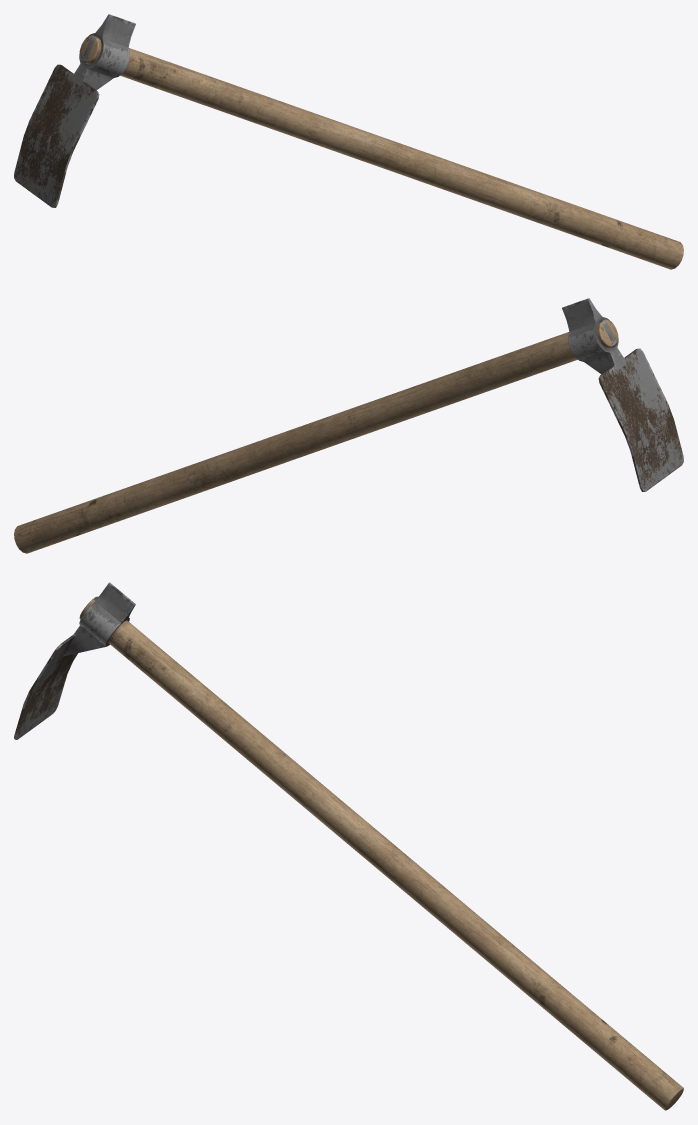
Rendered from farming_hoe.glb.
3 views of the same model, one above another, from view 1: azimuth 30°, elevation 25°; view 2: azimuth 150°, elevation 25°; view 3: azimuth 330°, elevation 25° (orthographic).
Parts seen in each view (by area): view 1: Farming_Hoe; view 2: Farming_Hoe; view 3: Farming_Hoe.
Part boxes in pixels (x1=…): Farming_Hoe: x1=14, y1=14, x2=683, y2=269; Farming_Hoe: x1=14, y1=298, x2=683, y2=553; Farming_Hoe: x1=14, y1=582, x2=683, y2=1110.
Bounding box in the file's own units: 29.59 × 17.07 × 3.34.
Materials: 1 (1 with a texture image).
